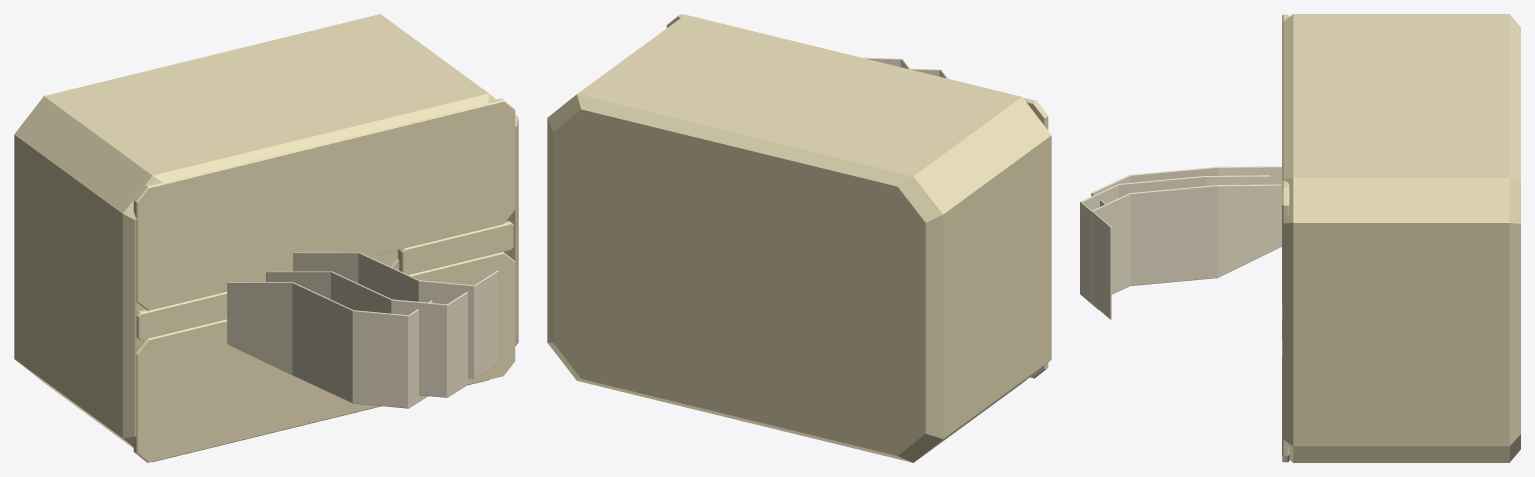
Rendered from tissues.glb.
3 views of the same model, side by side, from view 1: azimuth 30°, elevation 25°; view 2: azimuth 150°, elevation 25°; view 3: azimuth 270°, elevation 25° (orthographic).
Visible parts, largest first — view 1: tissues; view 2: tissues; view 3: tissues.
Boxes of the visible parts, bbox=[...] form: tissues: bbox=[14, 14, 518, 462]; tissues: bbox=[547, 14, 1051, 462]; tissues: bbox=[1080, 14, 1520, 462].
Size of the model in its own units: 0.12 by 0.0854 by 0.1162.
